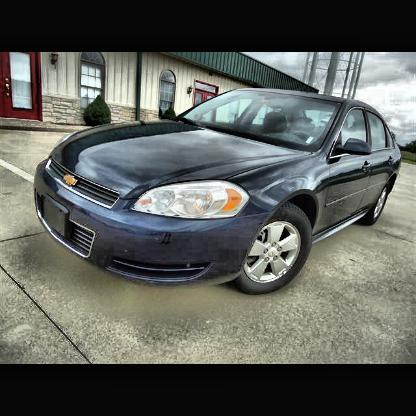Chevrolet Impala Sedan 2007: (34, 89, 402, 298)
